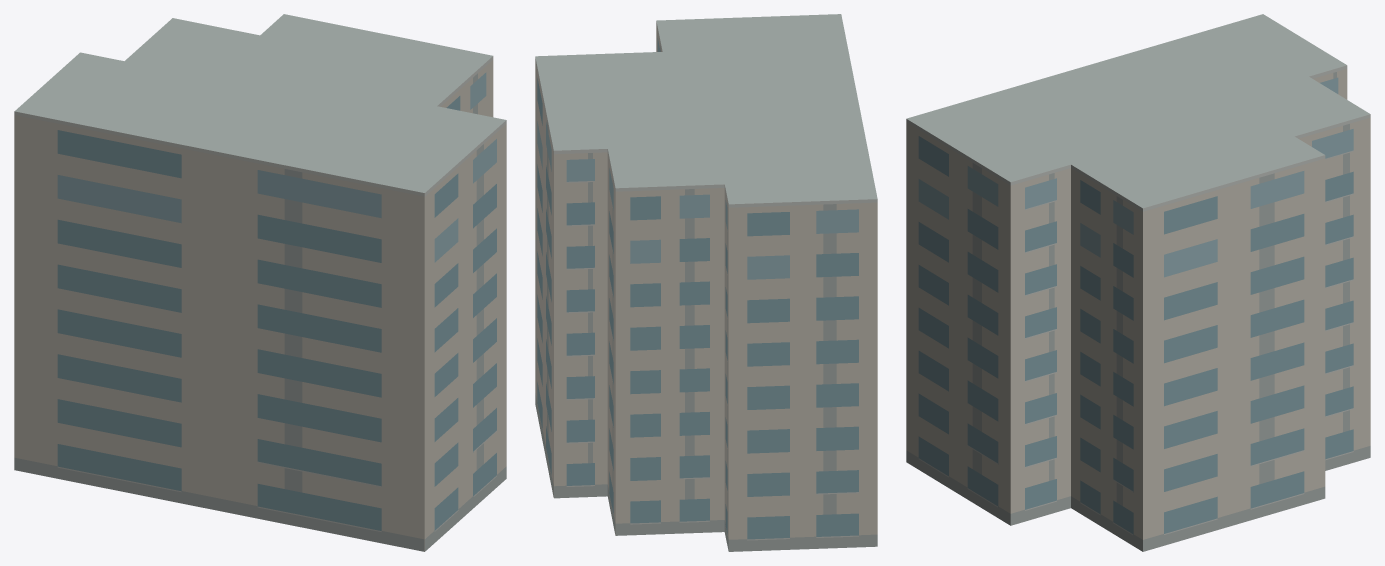
File: residential-2e17f142-c823-4286-a655-51f1a6c79d76.glb
3 views of the same model, side by side, from view 1: azimuth 30°, elevation 25°; view 2: azimuth 150°, elevation 25°; view 3: azimuth 270°, elevation 25° (orthographic). The views are drawn at different scales.
Visible parts, largest first — view 1: residential-2e17f142-c823-4286-a655-51f1a6c79d76.tmp; view 2: residential-2e17f142-c823-4286-a655-51f1a6c79d76.tmp; view 3: residential-2e17f142-c823-4286-a655-51f1a6c79d76.tmp.
Boxes of the visible parts, <box> form: residential-2e17f142-c823-4286-a655-51f1a6c79d76.tmp: <box>14,14,506,551</box>; residential-2e17f142-c823-4286-a655-51f1a6c79d76.tmp: <box>535,14,877,551</box>; residential-2e17f142-c823-4286-a655-51f1a6c79d76.tmp: <box>906,14,1370,551</box>.
Size of the model in its own units: 29.63 by 24.4 by 29.91.
